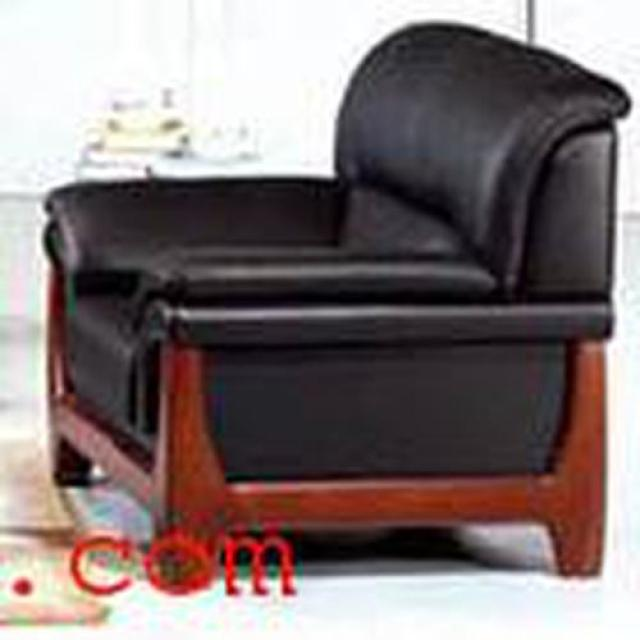sofa: (42, 22, 632, 575)
